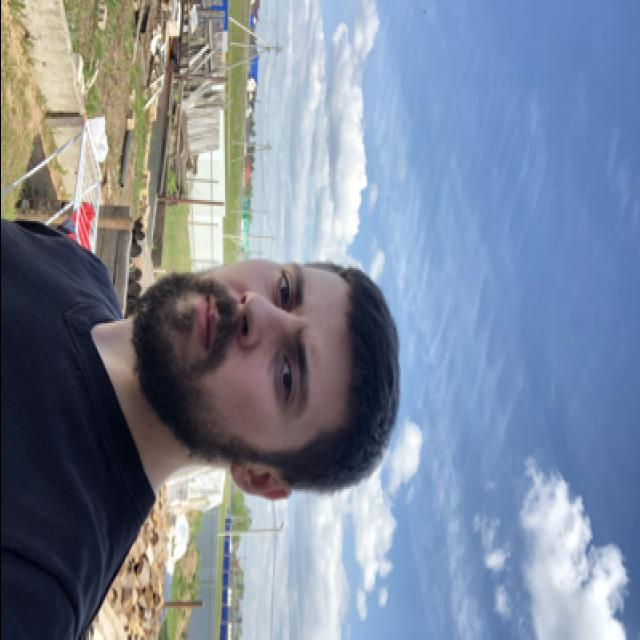without_mask: (131, 258, 328, 444)
